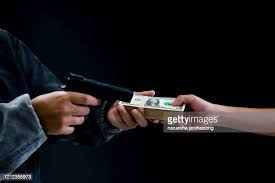gun: (63, 70, 140, 134)
